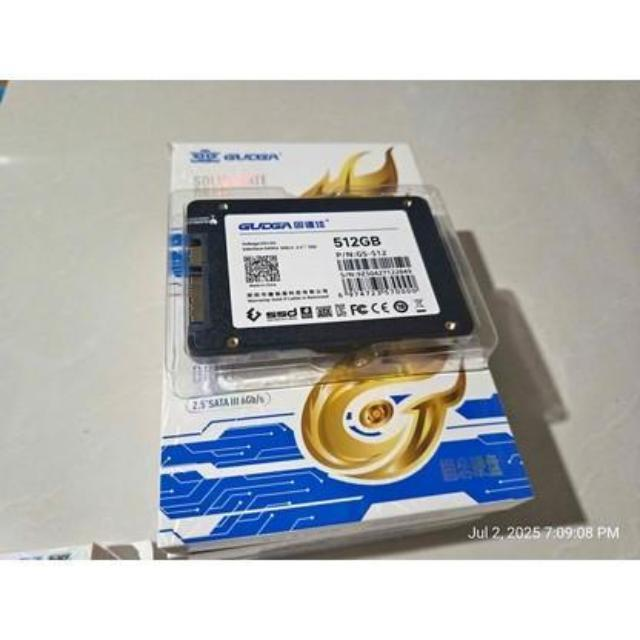DISK: (182, 190, 473, 358)
